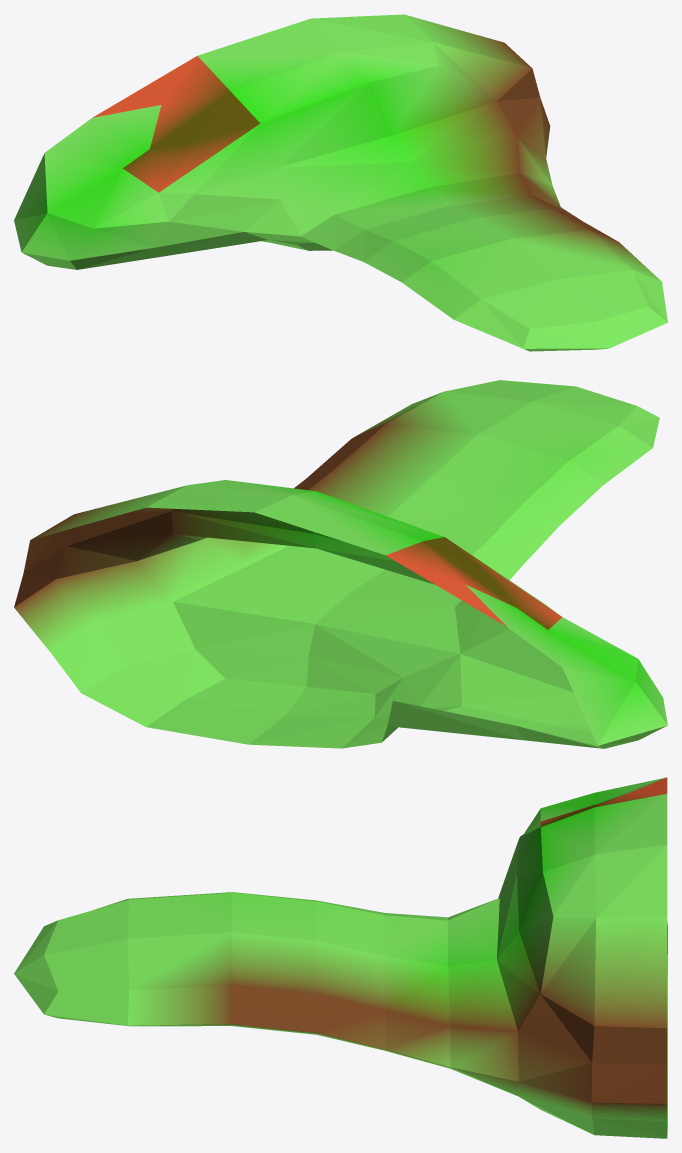
3 views of the same model, one above another, from view 1: azimuth 30°, elevation 25°; view 2: azimuth 150°, elevation 25°; view 3: azimuth 270°, elevation 25° (orthographic). The views are drawn at different scales.
Visible parts, largest first — view 1: Cube; view 2: Cube; view 3: Cube.
Part boxes in pixels (left/top/right/bottom): Cube: left=14, top=14, right=667, bottom=351; Cube: left=14, top=380, right=667, bottom=748; Cube: left=14, top=777, right=667, bottom=1138.
Size of the model in its own units: 4.47 by 4.31 by 1.68.
